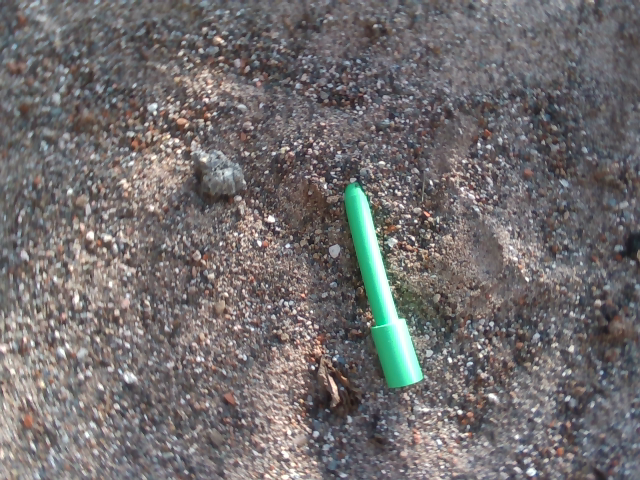Probe: (334, 166, 430, 390)
